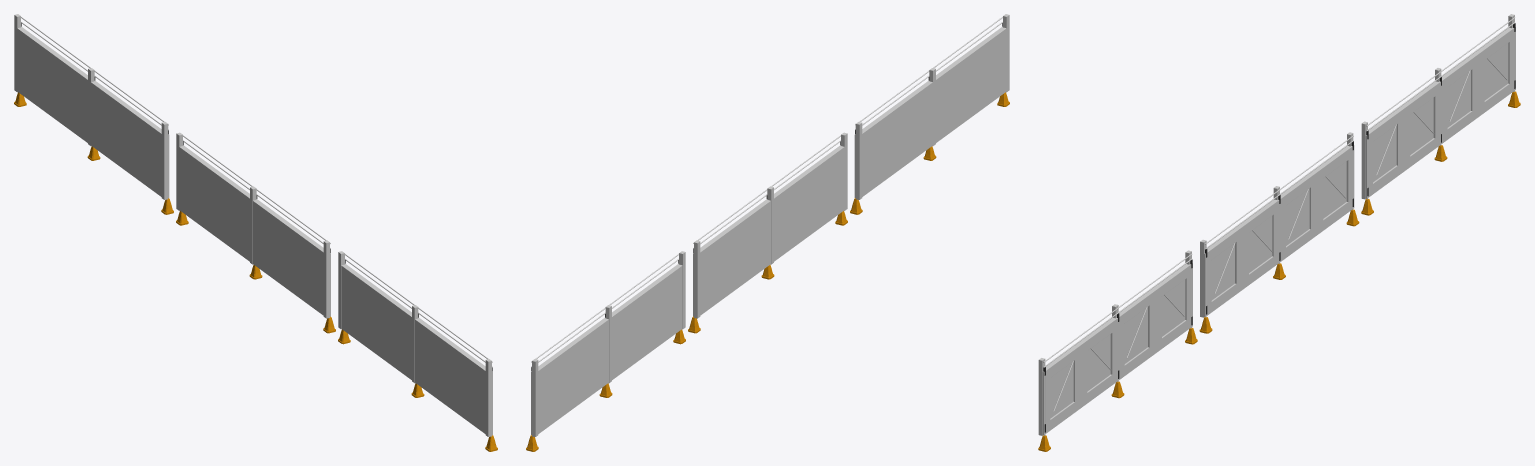
The model's file is barriers.fbx.
3 renders of one model, left to right at view 1: azimuth 30°, elevation 25°; view 2: azimuth 150°, elevation 25°; view 3: azimuth 330°, elevation 25°, orthographic.
Parts seen in each view (by area): view 1: Cube.017, Cube.003, Cube.010, Cube.018, Cube.004, Cube.011; view 2: Cube.010, Cube.003, Cube.017, Cube.013, Cube.006, Cube.020; view 3: Cube.017, Cube.003, Cube.010.
Boxes of the visible parts, x1=… form: Cube.017: x1=17, y1=26, x2=169, y2=197; Cube.003: x1=179, y1=145, x2=330, y2=316; Cube.010: x1=341, y1=263, x2=492, y2=435; Cube.018: x1=161, y1=122, x2=168, y2=199; Cube.004: x1=323, y1=240, x2=329, y2=318; Cube.011: x1=485, y1=359, x2=491, y2=436; Cube.010: x1=854, y1=26, x2=1006, y2=197; Cube.003: x1=693, y1=145, x2=844, y2=316; Cube.017: x1=531, y1=263, x2=682, y2=435; Cube.013: x1=855, y1=122, x2=862, y2=199; Cube.006: x1=694, y1=240, x2=700, y2=318; Cube.020: x1=532, y1=359, x2=538, y2=436; Cube.017: x1=1365, y1=27, x2=1515, y2=198; Cube.003: x1=1204, y1=145, x2=1354, y2=316; Cube.010: x1=1042, y1=263, x2=1192, y2=435.
Bounding box in the file's own units: 71.2 × 672 × 6470.
